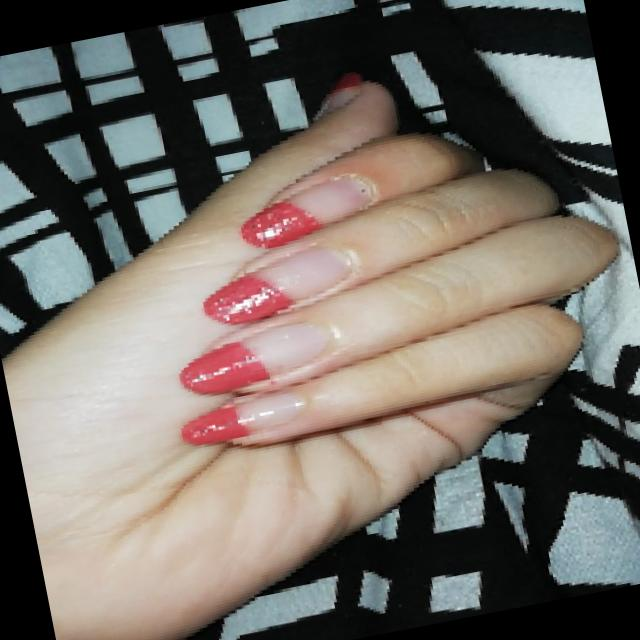Nail: (204, 248, 349, 324), (180, 323, 328, 393), (241, 175, 376, 249), (182, 391, 305, 444)
